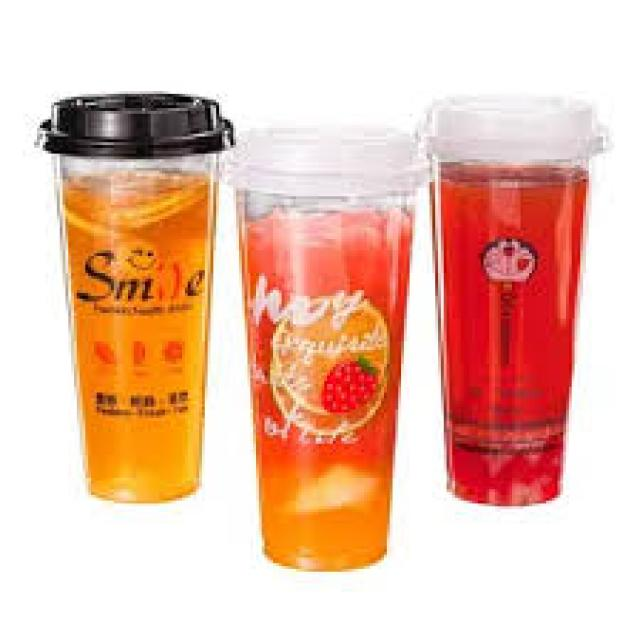bottle: (244, 205, 412, 569), (59, 155, 216, 502), (432, 162, 588, 504)
